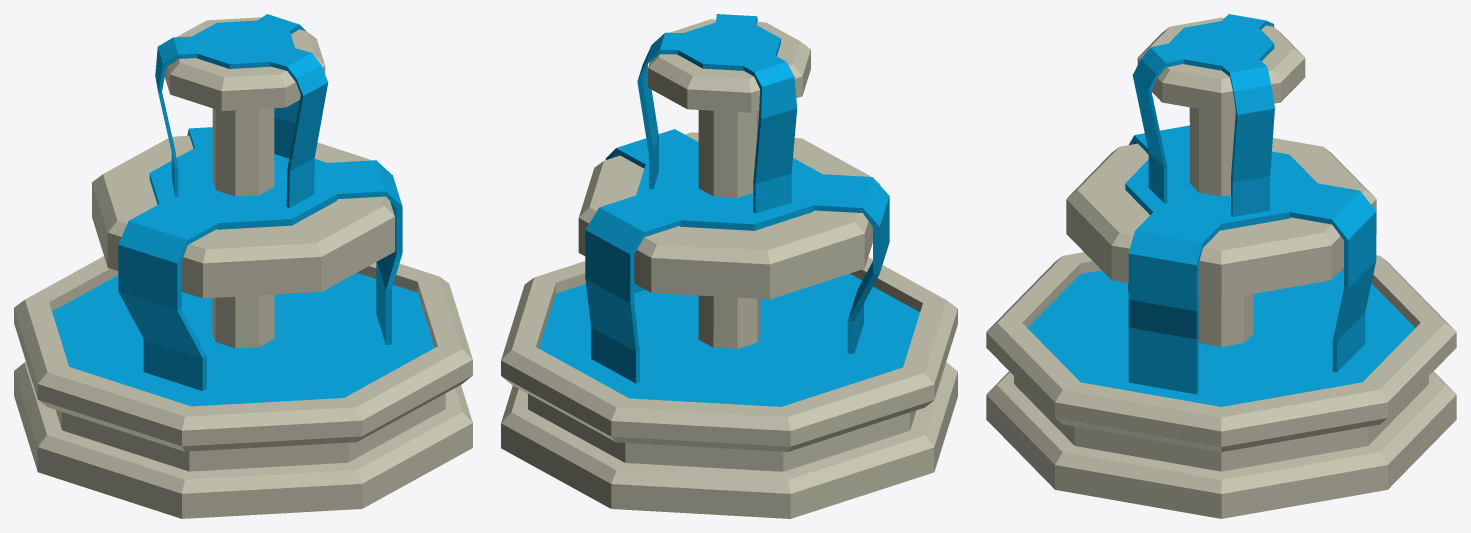
File: Fountain.fbx
The picture shows the model from 3 angles, left to right: view 1: azimuth 30°, elevation 25°; view 2: azimuth 150°, elevation 25°; view 3: azimuth 270°, elevation 25°; orthographic projection.
Parts seen in each view (by area): view 1: pCylinder1, pCylinder2; view 2: pCylinder1, pCylinder2; view 3: pCylinder1, pCylinder2.
Part boxes in pixels (left/top/right/bottom): pCylinder1: left=14, top=17, right=472, bottom=518; pCylinder2: left=52, top=14, right=434, bottom=406; pCylinder1: left=501, top=19, right=957, bottom=518; pCylinder2: left=539, top=14, right=919, bottom=406; pCylinder1: left=986, top=17, right=1456, bottom=518; pCylinder2: left=1027, top=14, right=1415, bottom=406.
Size of the model in its own units: 408 by 360 by 408.
